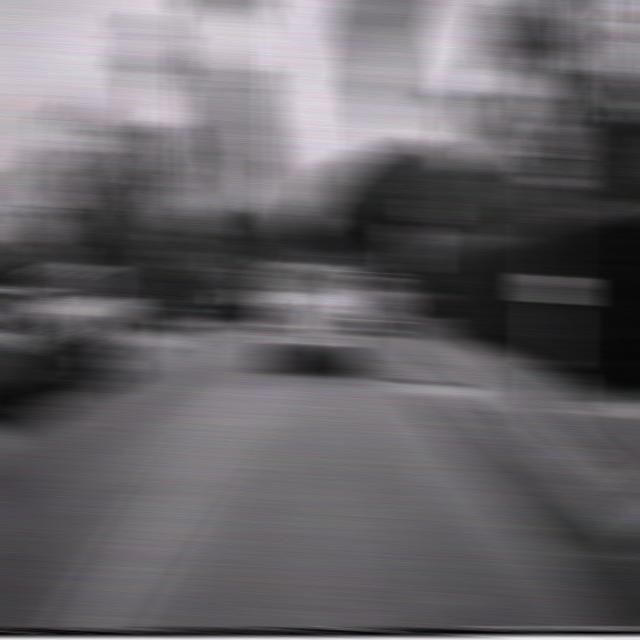speedLimit30: (528, 121, 576, 187)
